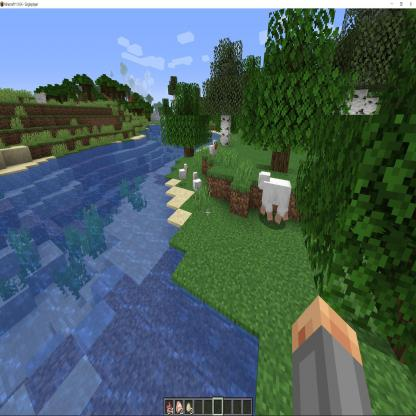minecraft-pigs: (190, 170, 202, 202), (178, 162, 188, 188), (209, 139, 218, 163)
